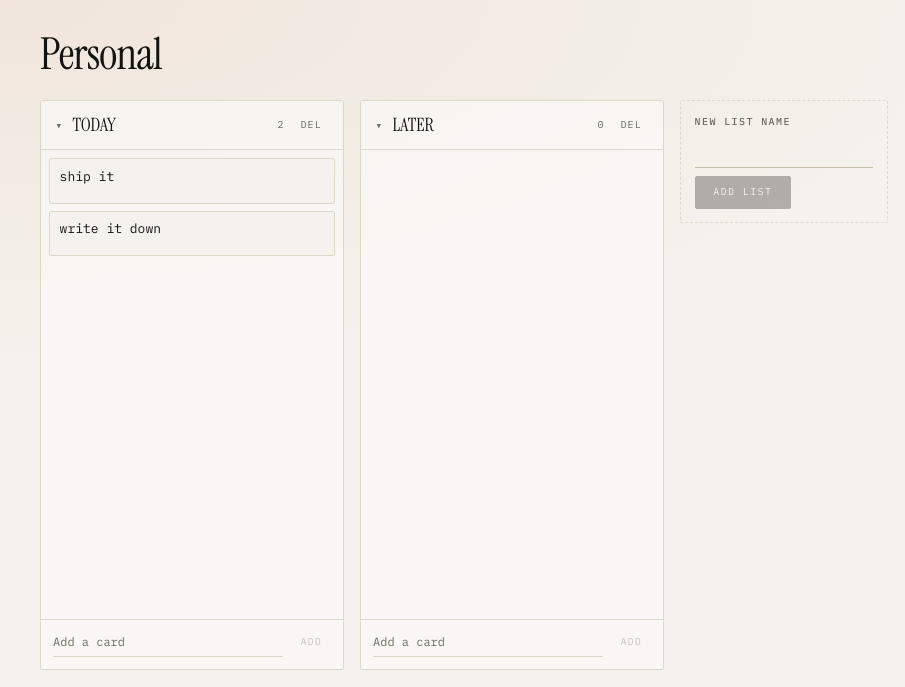
Scenario: Escape abandons a card edit
Click the button "ship it". click: [168, 177]
box: [60,168,277,186]
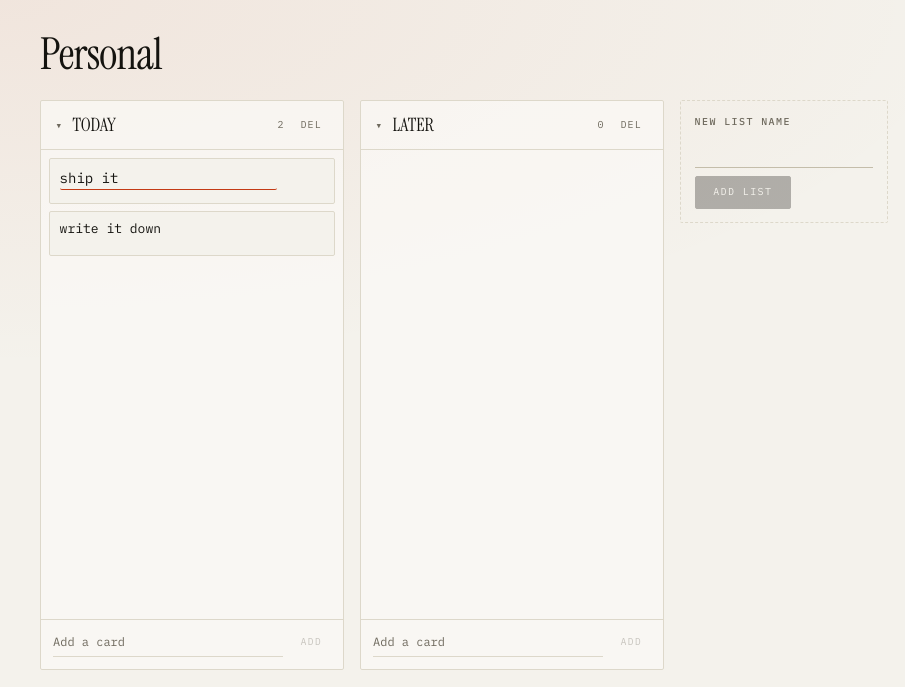
Type " changed" into the field named "Card title". click: [168, 179]
box: [60,168,277,190]
Then press Escape
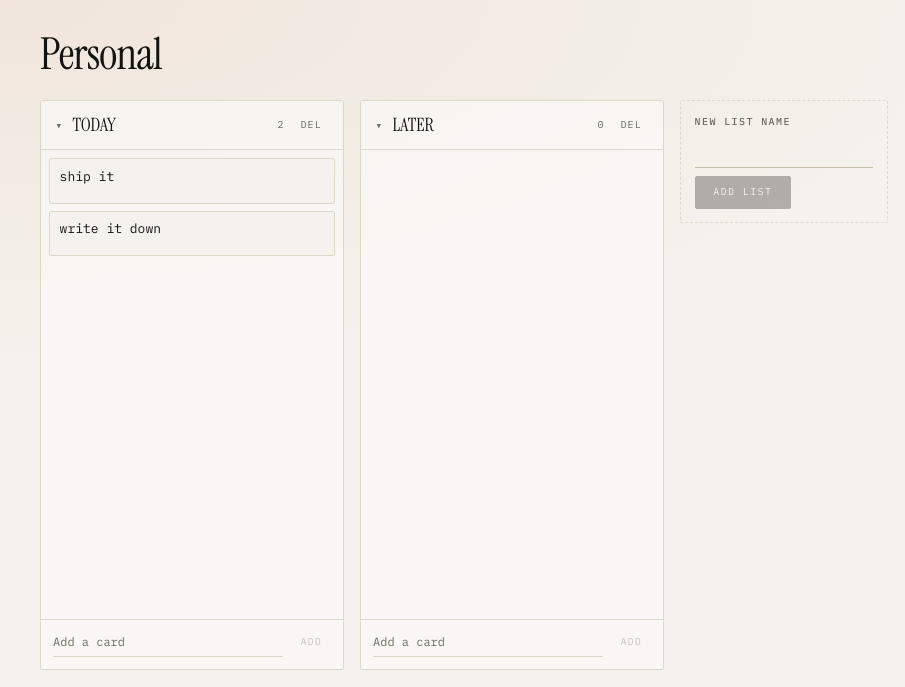
Expected: the button "ship it" is shown, [60,168,277,186]
